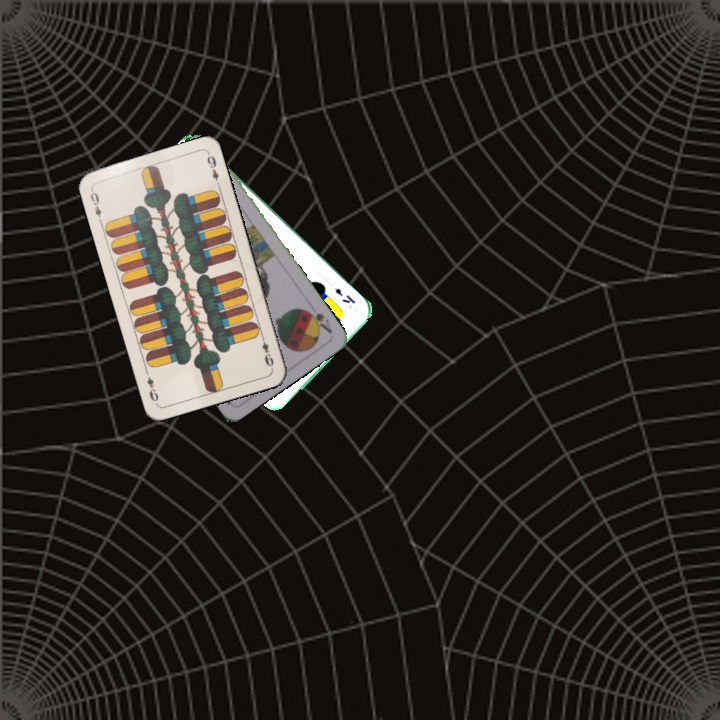E9: (257, 331, 276, 369), (86, 185, 104, 225)
EK: (331, 284, 358, 306)
SA: (301, 301, 334, 336)
